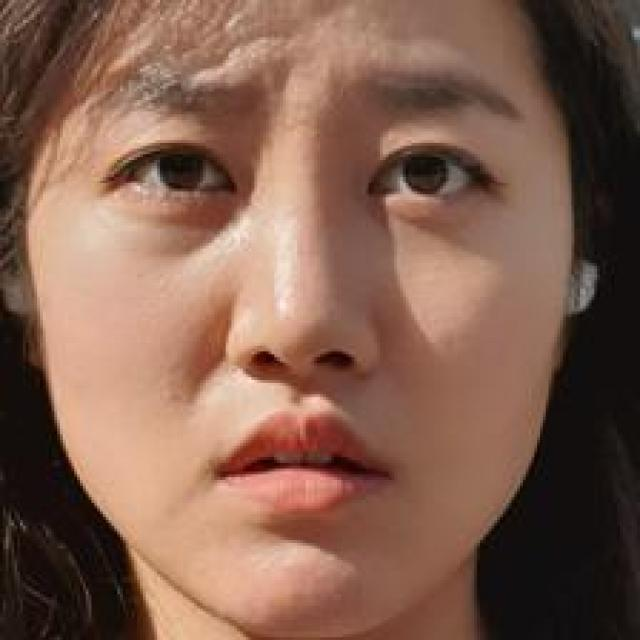fear: (66, 36, 540, 570)
